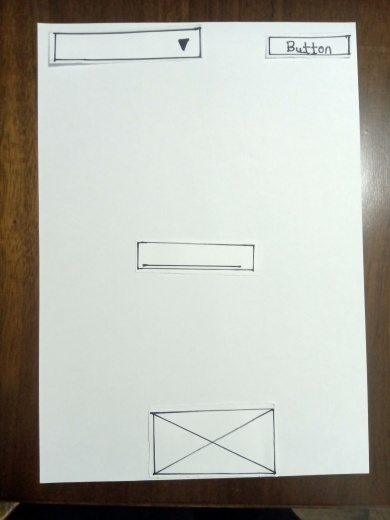button: (268, 36, 348, 57)
dropdown: (49, 30, 200, 62)
img: (148, 412, 279, 474)
text: (137, 242, 257, 273)
